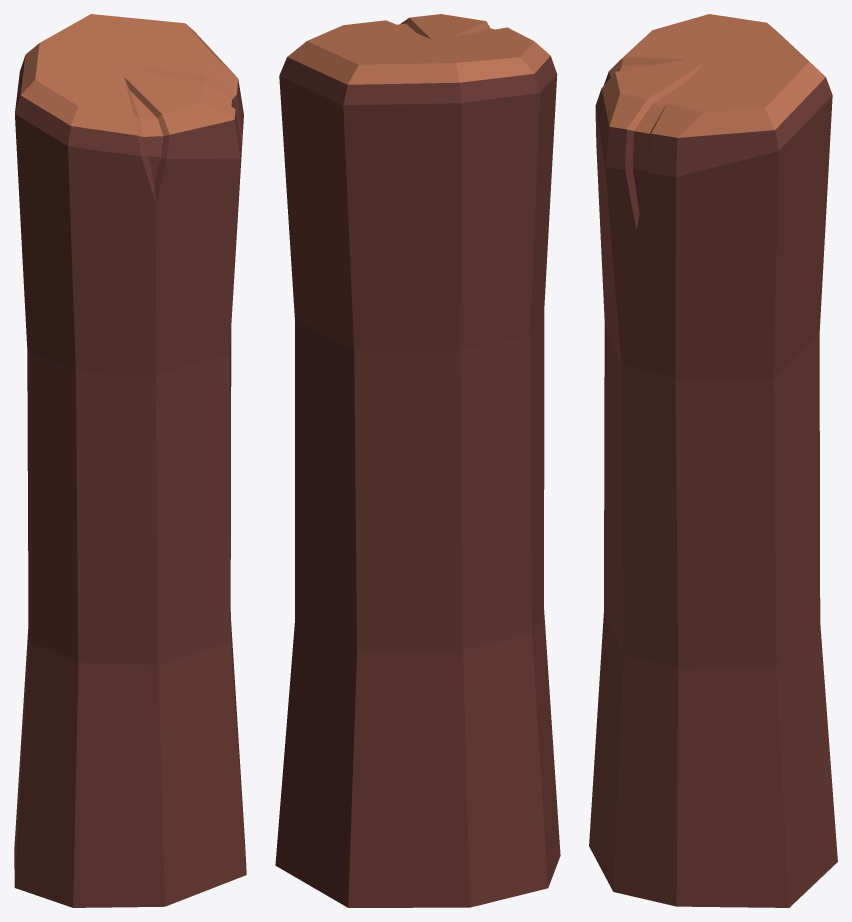
File: Wooden Pole Blunt 08.fbx
The picture shows the model from 3 angles, left to right: view 1: azimuth 30°, elevation 25°; view 2: azimuth 150°, elevation 25°; view 3: azimuth 270°, elevation 25°; orthographic projection. The views are drawn at different scales.
Parts seen in each view (by area): view 1: Wooden Pole Blunt 08; view 2: Wooden Pole Blunt 08; view 3: Wooden Pole Blunt 08.
Part boxes in pixels (x1,y1,x2,y2): Wooden Pole Blunt 08: [14, 14, 246, 907]; Wooden Pole Blunt 08: [275, 14, 560, 907]; Wooden Pole Blunt 08: [589, 14, 837, 907].
Bounding box in the file's own units: 30.25 × 105 × 29.49.
